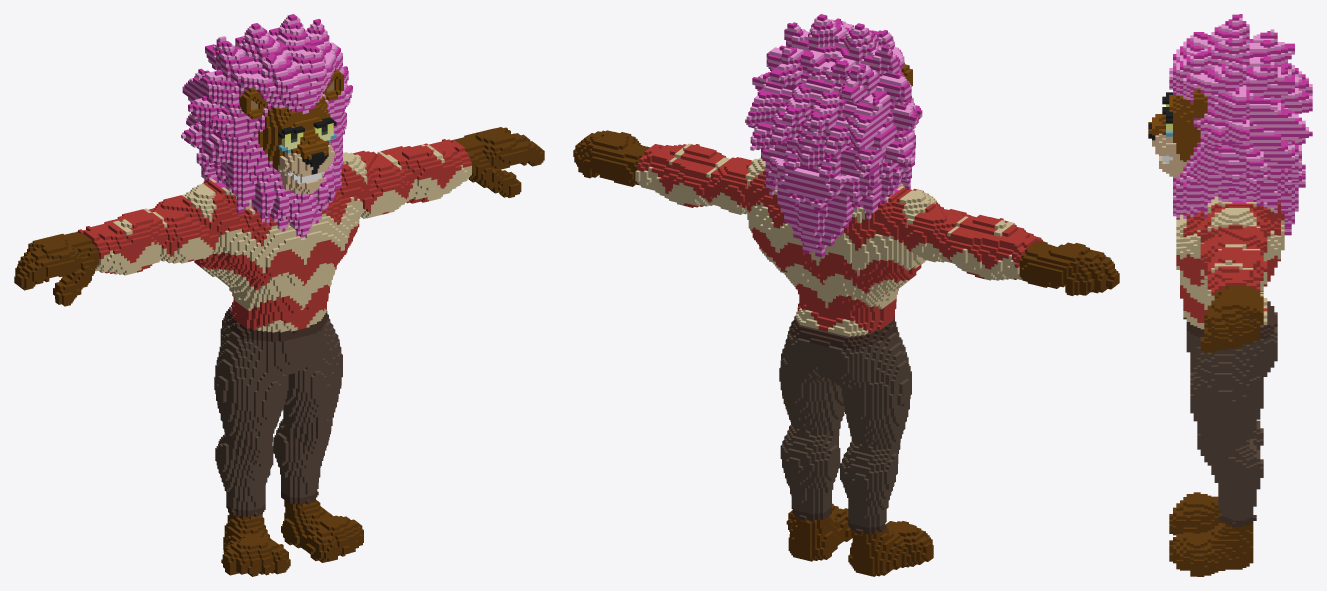
File: 64-9e119Ytf.fbx
3 renders of one model, left to right at view 1: azimuth 30°, elevation 25°; view 2: azimuth 150°, elevation 25°; view 3: azimuth 270°, elevation 25°, orthographic. The views are drawn at different scales.
Parts seen in each view (by area): view 1: big_smile; view 2: big_smile; view 3: big_smile.
Boxes of the visible parts, <box> form: big_smile: <box>14,14,544,576</box>; big_smile: <box>573,14,1119,576</box>; big_smile: <box>1148,14,1312,576</box>.
Bounding box in the file's own units: 17.2 × 16.5 × 4.7.
Materials: 5 (5 with a texture image).
